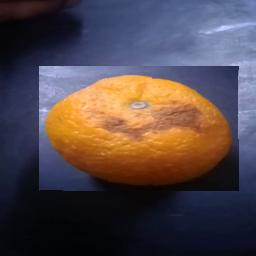Orange Semifresh: (40, 67, 240, 192)
